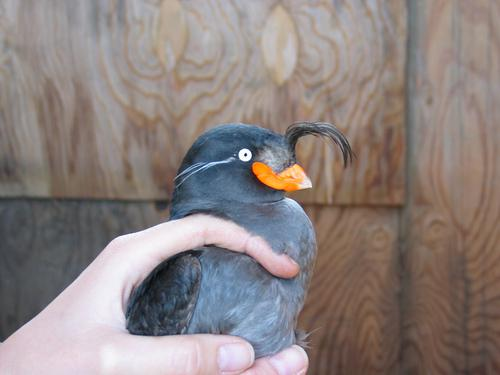005.Crested_Auklet: (123, 120, 357, 360)
